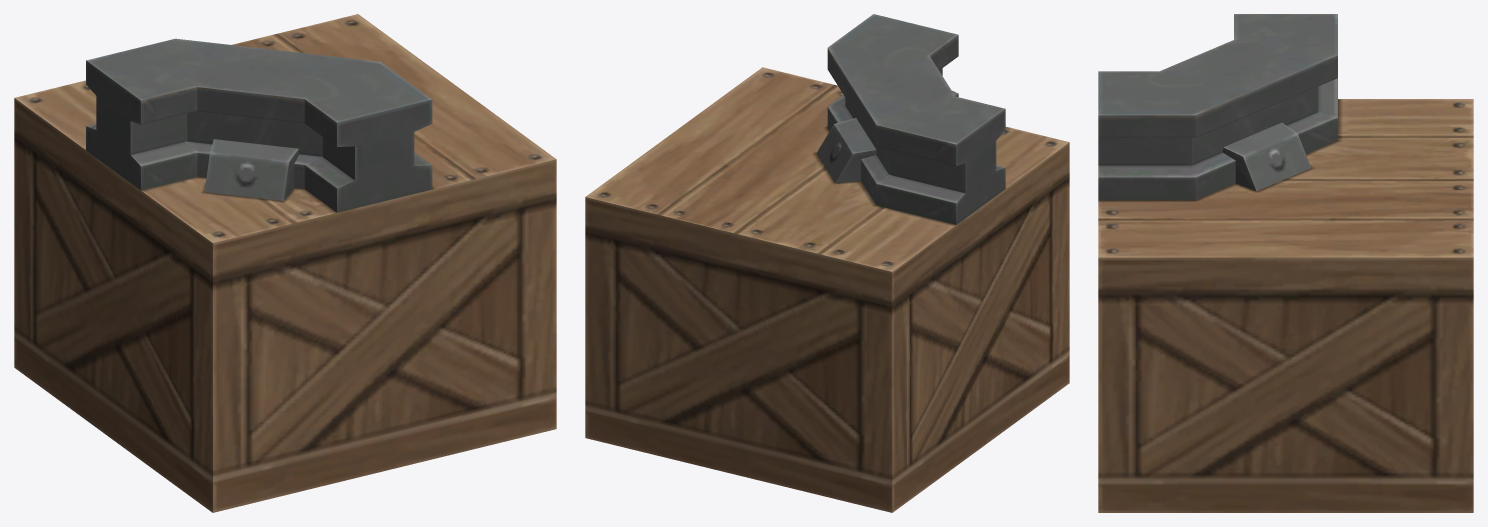
File: D45_RAIL_02T.obj
3 views of the same model, side by side, from view 1: azimuth 30°, elevation 25°; view 2: azimuth 150°, elevation 25°; view 3: azimuth 270°, elevation 25° (orthographic). The views are drawn at different scales.
Parts seen in each view (by area): view 1: D45_RAIL_02T; view 2: D45_RAIL_02T; view 3: D45_RAIL_02T.
Part boxes in pixels (x1,y1,x2,y2): D45_RAIL_02T: (14, 14, 556, 512); D45_RAIL_02T: (585, 14, 1069, 512); D45_RAIL_02T: (1098, 14, 1473, 512).
Bounding box in the file's own units: 1 × 1 × 1.
Materials: 1 (1 with a texture image).
